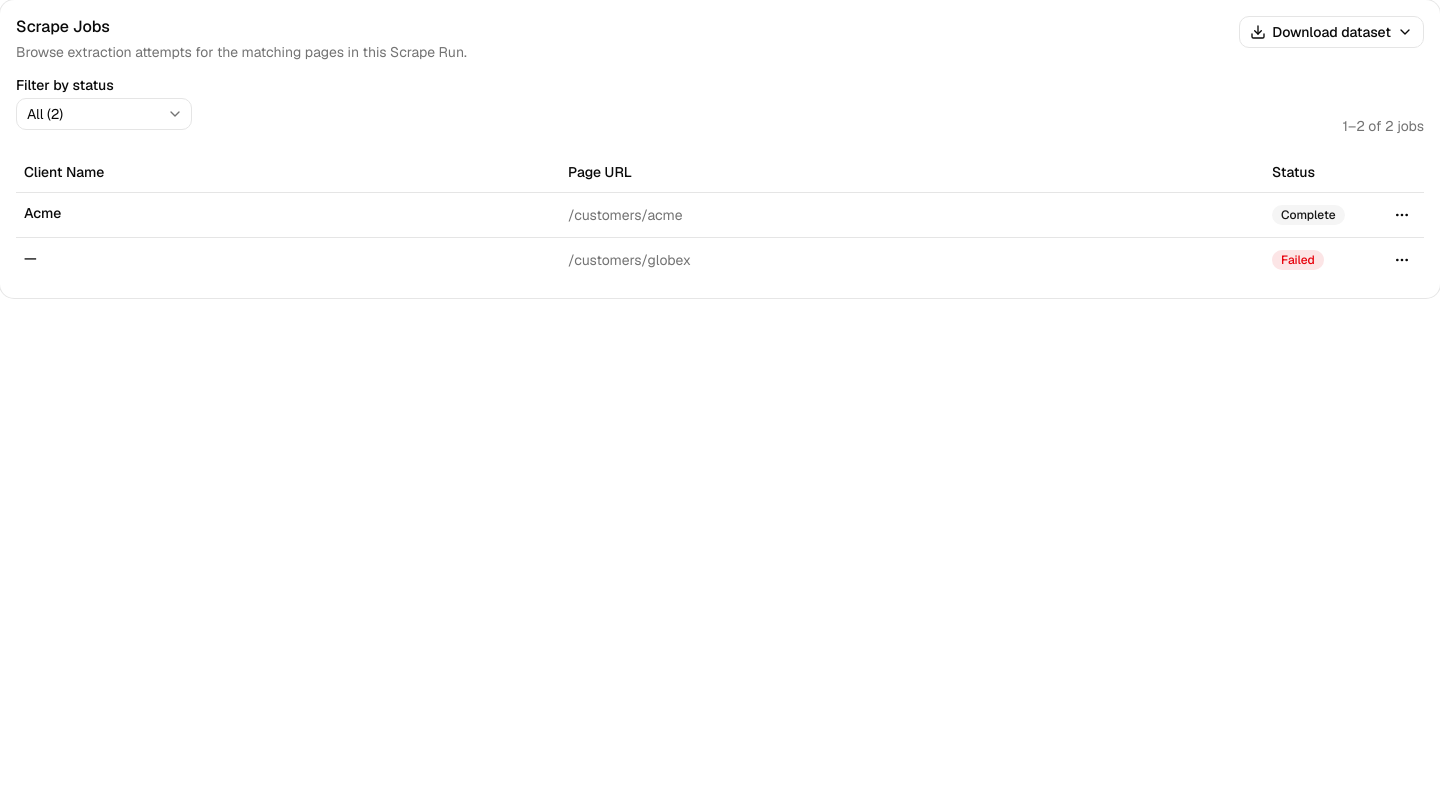
Test: Extraction Dataset download › restores the control without retrying after a network failure
This screenshot has width=1440, height=810.
Click the button "Download dataset" at (1332, 32), box left=1239, top=16, right=1424, bottom=48
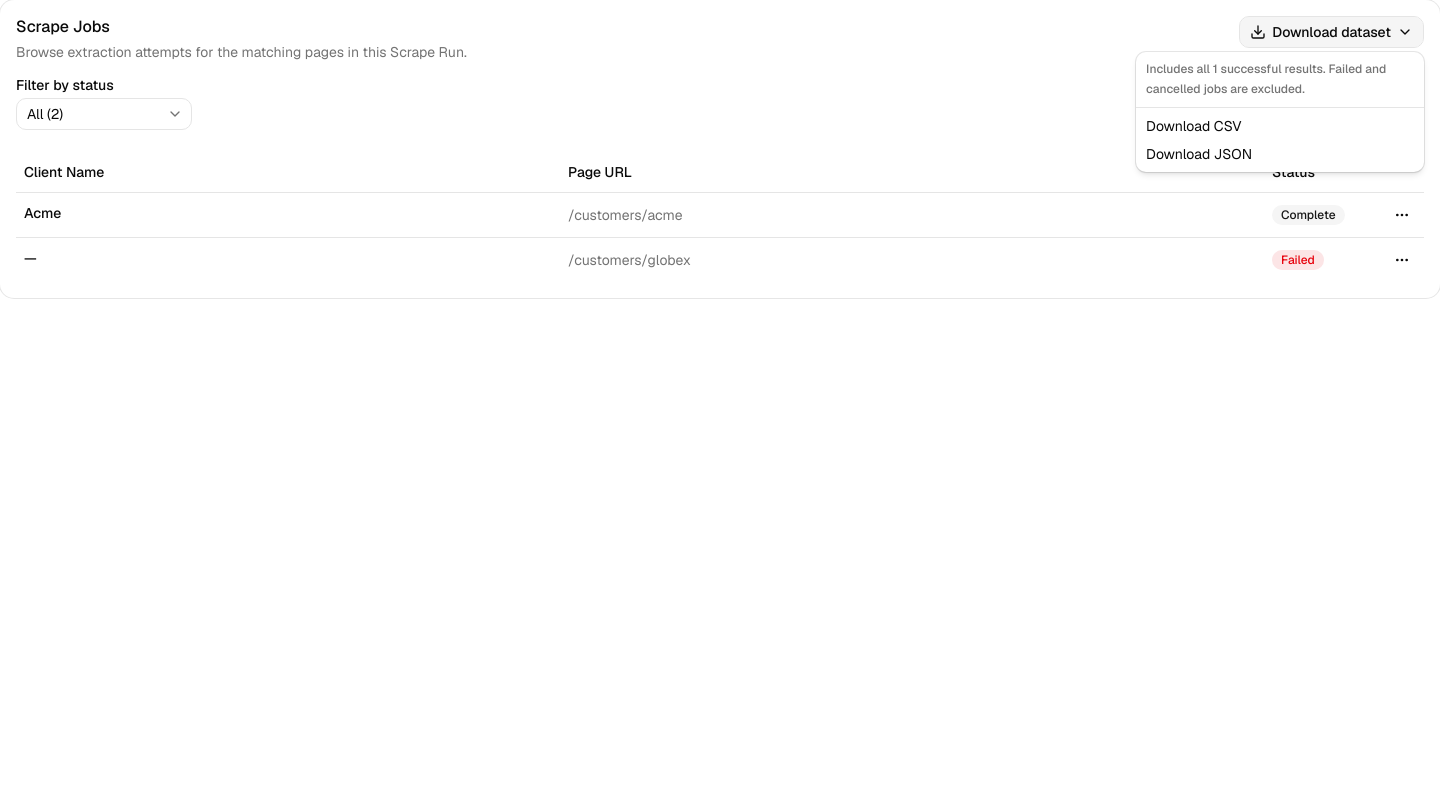
Click the menu item "Download JSON" at (1199, 154), box left=1146, top=145, right=1252, bottom=163
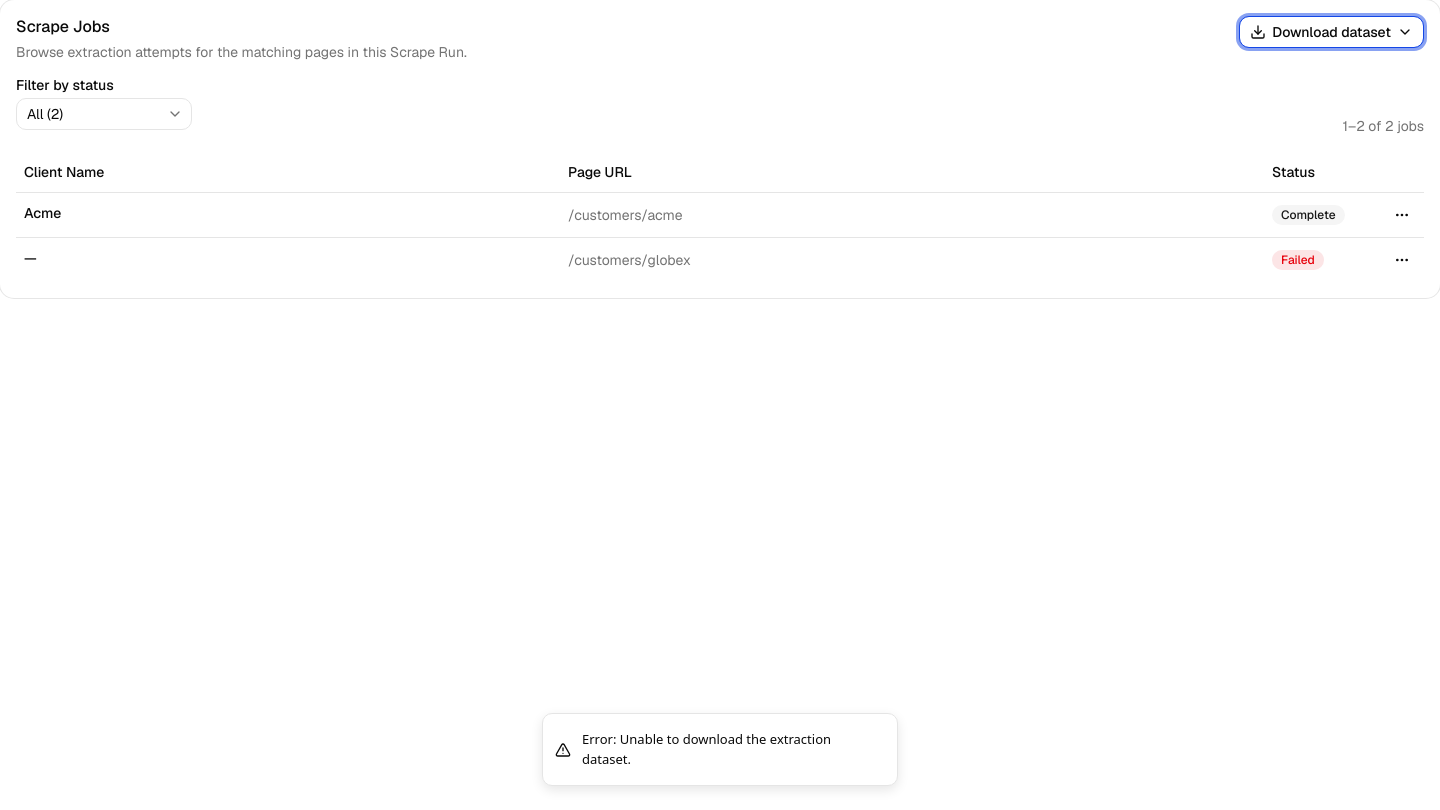
Expected: the button "Download dataset" is enabled, left=1239, top=16, right=1424, bottom=48
Now the text "Error: Unable to download the extraction dataset." is shown once, box left=582, top=730, right=831, bottom=768
